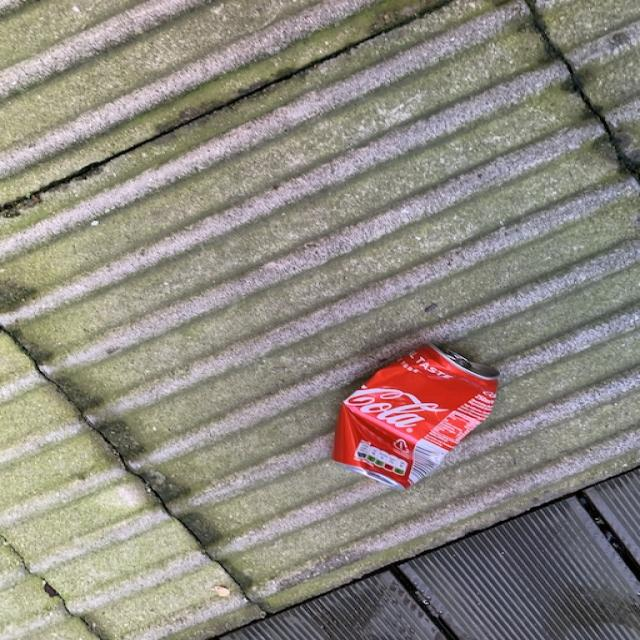litter: (318, 333, 518, 498)
